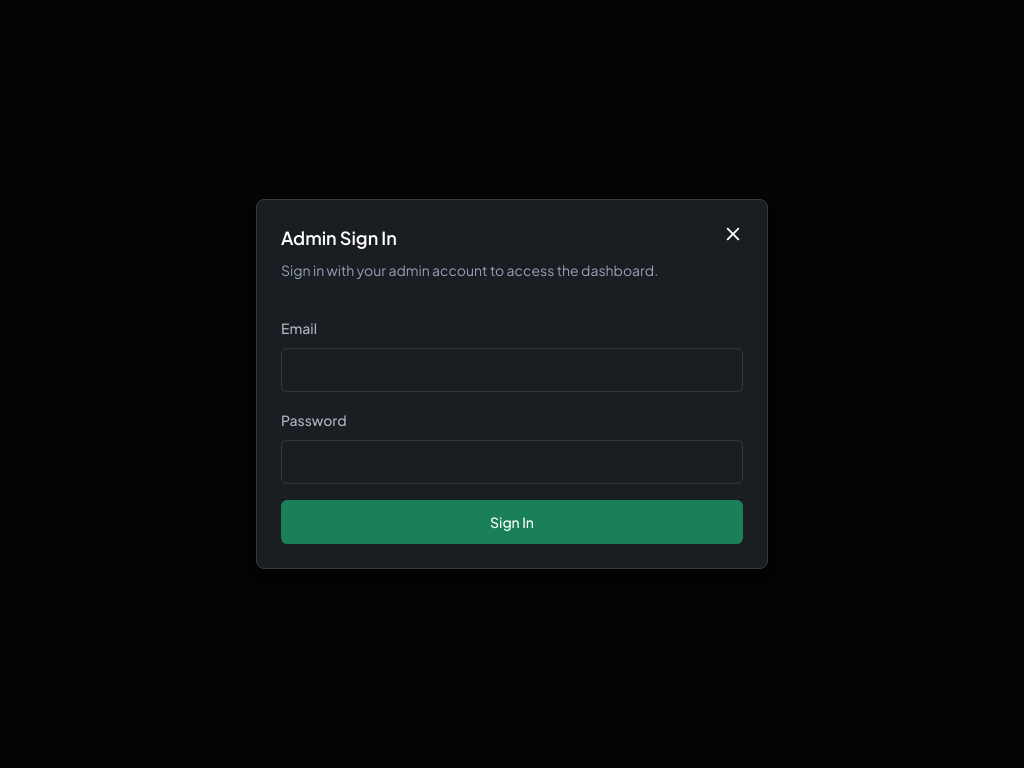
Test: AdminLoginModal › shows a fallback error if the action throws
Type "admin@example.com" into the field labelled "Email". click: (512, 370)
box: x1=281 y1=348 x2=743 y2=392
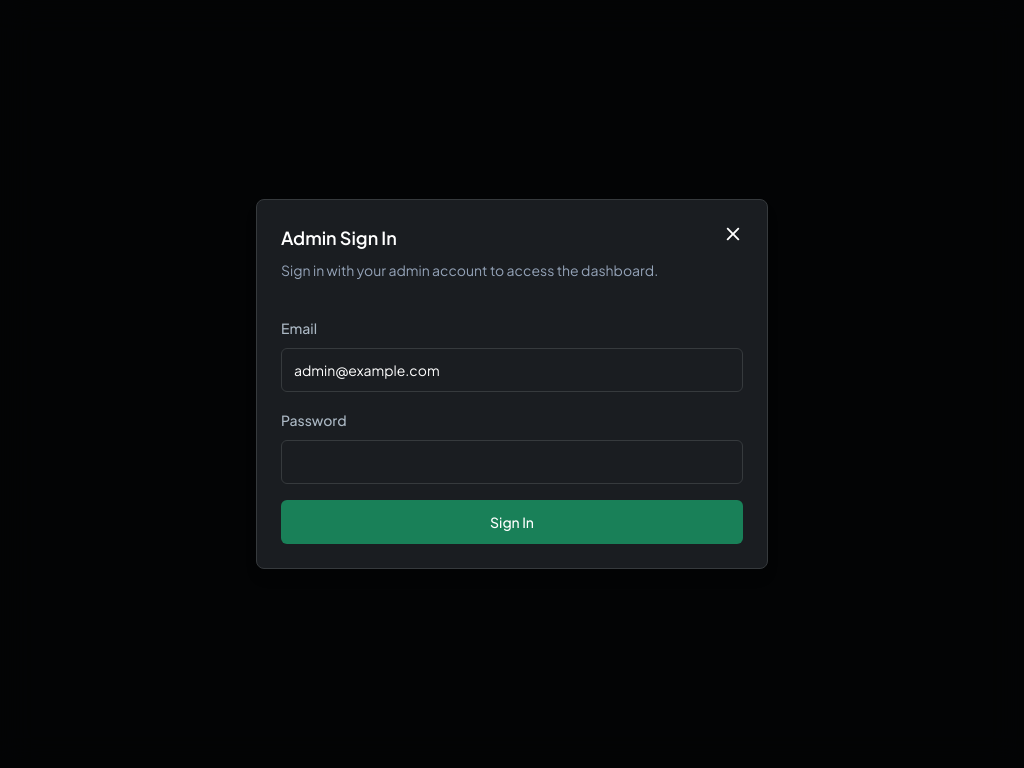
Type "secret" into the password field labelled "Password". click: (512, 462)
box: x1=281 y1=440 x2=743 y2=484
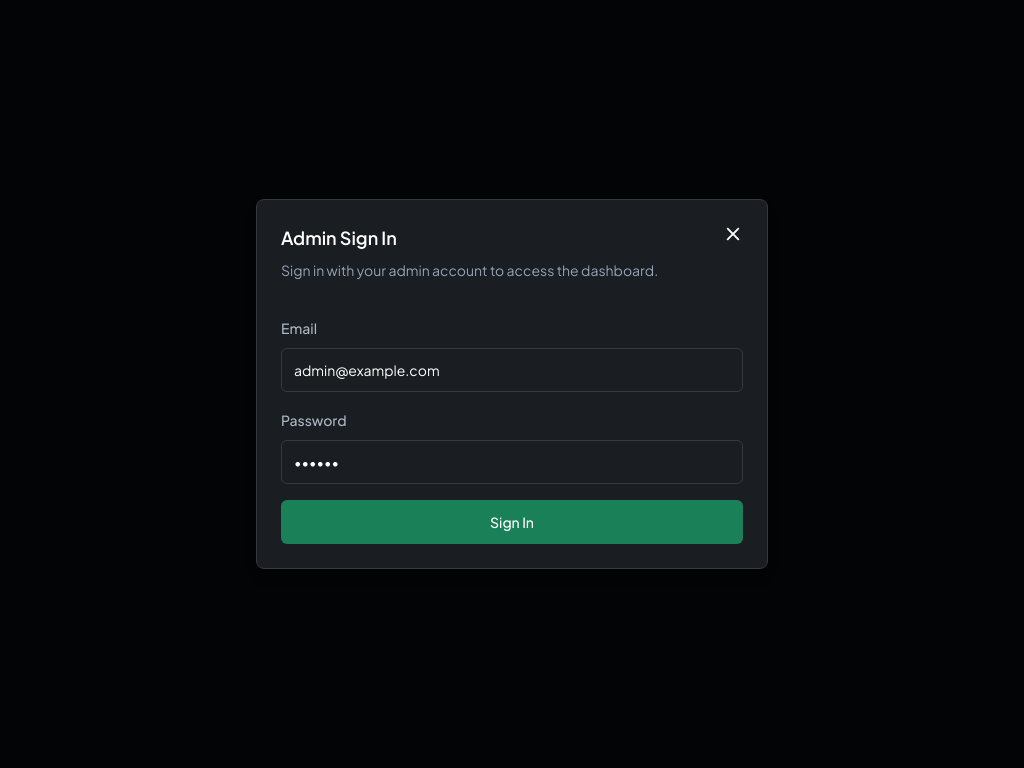
Click the button "Sign In". click: (512, 522)
box: x1=281 y1=500 x2=743 y2=544
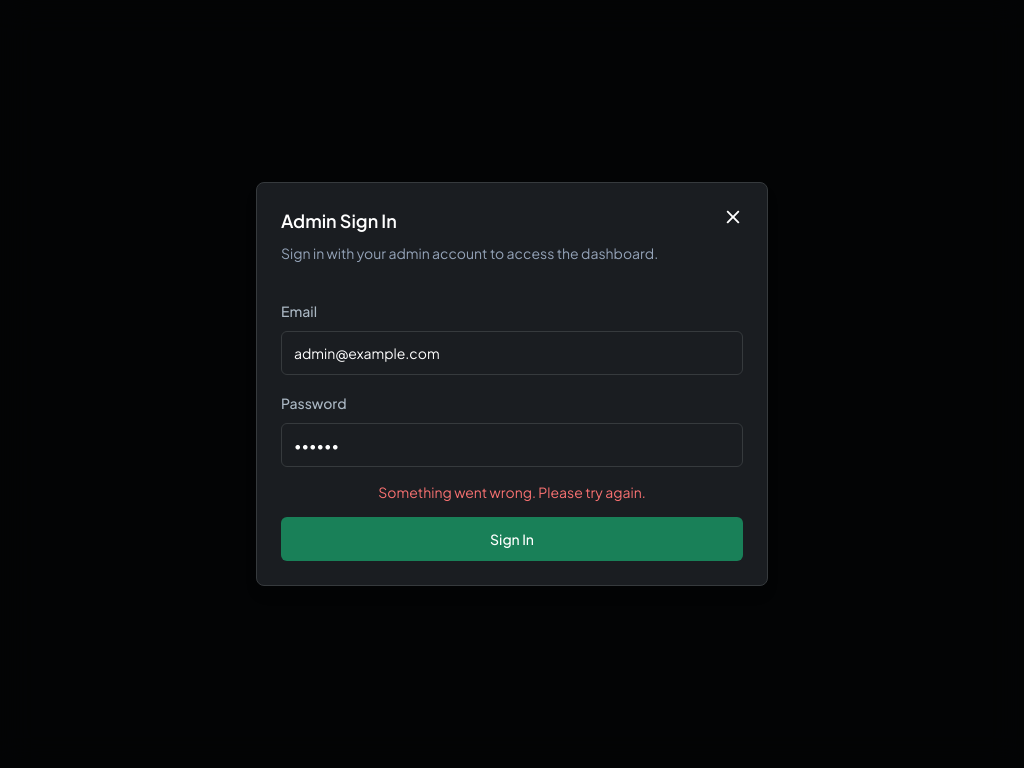
Expected: the button "Sign In" is enabled, x1=281 y1=517 x2=743 y2=561
Now the text "Something went wrong. Please try again." is shown, box x1=378 y1=483 x2=646 y2=501
